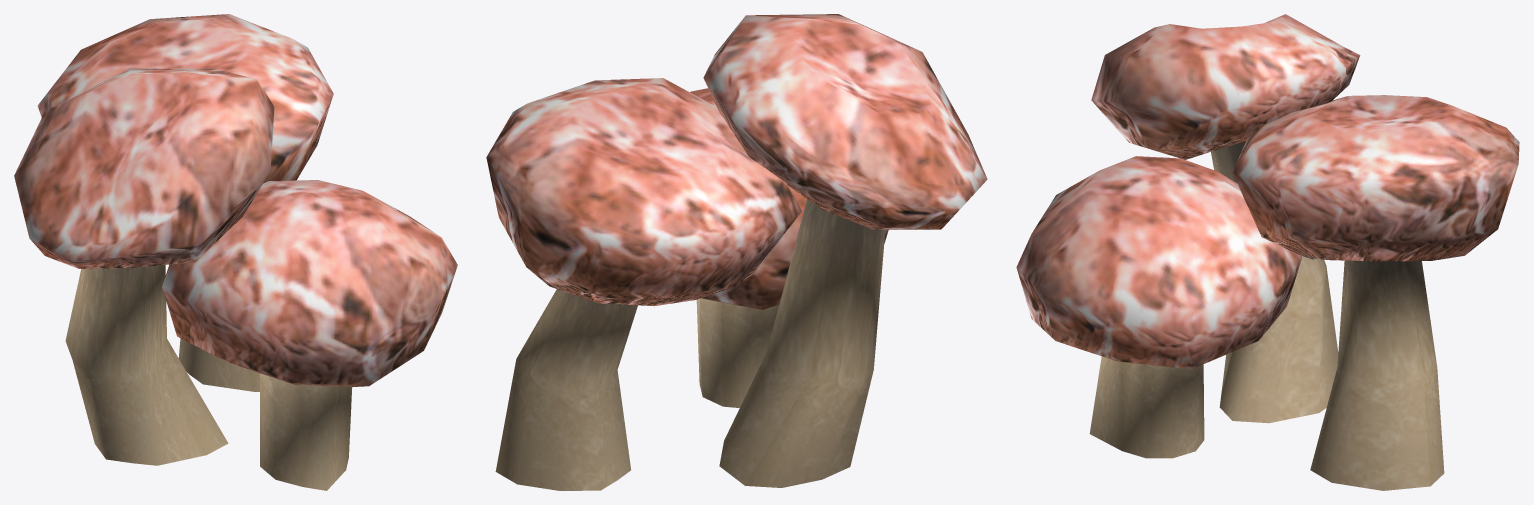
File: mushroom 1.fbx
The picture shows the model from 3 angles, left to right: view 1: azimuth 30°, elevation 25°; view 2: azimuth 150°, elevation 25°; view 3: azimuth 270°, elevation 25°; orthographic projection. The views are drawn at different scales.
Parts seen in each view (by area): view 1: mushroom_1; view 2: mushroom_1; view 3: mushroom_1.
Part boxes in pixels (box(x1,y1,x2,y2)): mushroom_1: box(14, 14, 457, 490); mushroom_1: box(486, 14, 987, 490); mushroom_1: box(1016, 14, 1519, 490).
Size of the model in its own units: 0.9442 by 0.9164 by 1.12.
